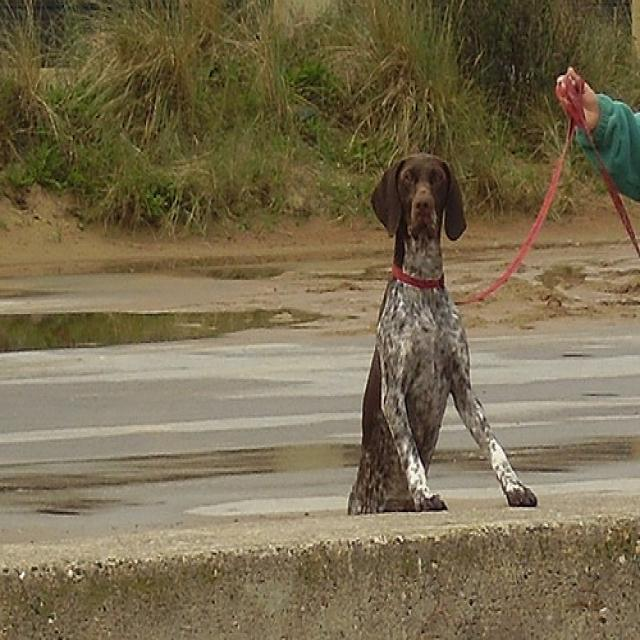dog-german_shorthaired: (344, 150, 541, 519)
